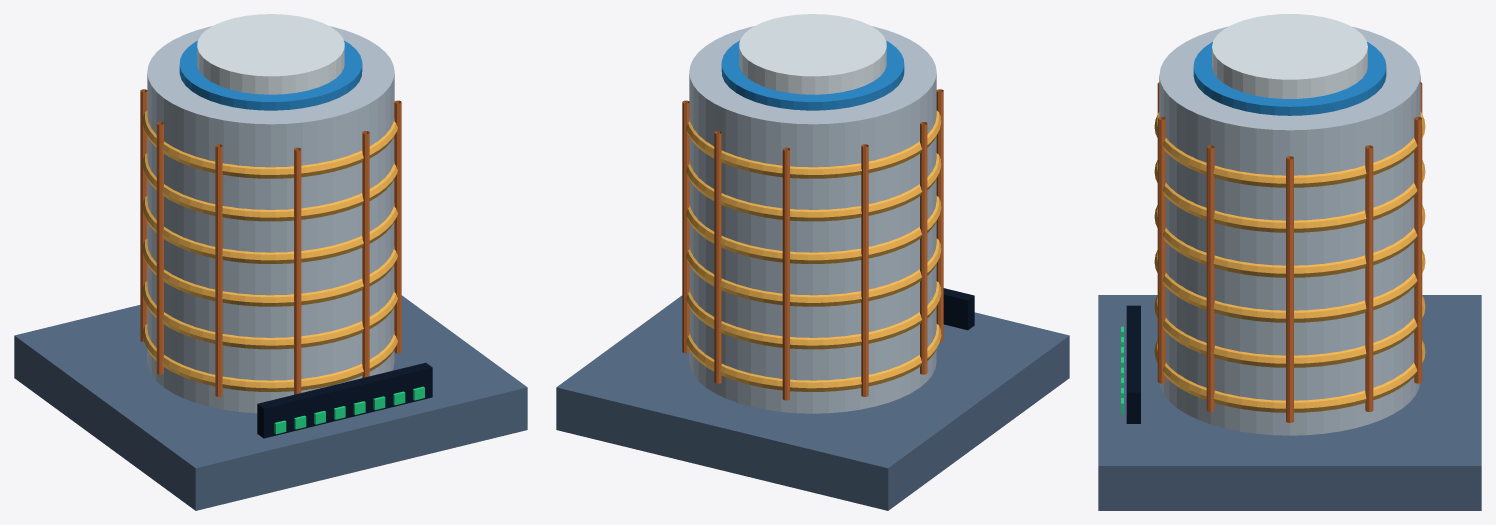
Rendered from 34_L91_PrimaryAtomicClockReference.fbx.
3 renders of one model, left to right at view 1: azimuth 30°, elevation 25°; view 2: azimuth 150°, elevation 25°; view 3: azimuth 270°, elevation 25°, orthographic. The views are drawn at different scales.
Visible parts, largest first — view 1: L91_PrimaryAtomicClockReference, L91_PrimaryAtomicClockReference_Part_0003; view 2: L91_PrimaryAtomicClockReference, L91_PrimaryAtomicClockReference_Part_0003; view 3: L91_PrimaryAtomicClockReference, L91_PrimaryAtomicClockReference_Part_0003.
Part boxes in pixels (x1=…): L91_PrimaryAtomicClockReference: x1=14, y1=14, x2=527, y2=510; L91_PrimaryAtomicClockReference_Part_0003: x1=142, y1=110, x2=397, y2=391; L91_PrimaryAtomicClockReference: x1=556, y1=14, x2=1069, y2=510; L91_PrimaryAtomicClockReference_Part_0003: x1=686, y1=110, x2=941, y2=391; L91_PrimaryAtomicClockReference: x1=1098, y1=14, x2=1481, y2=510; L91_PrimaryAtomicClockReference_Part_0003: x1=1154, y1=111, x2=1425, y2=412.
Bounding box in the file's own units: 285 × 294 × 270.
